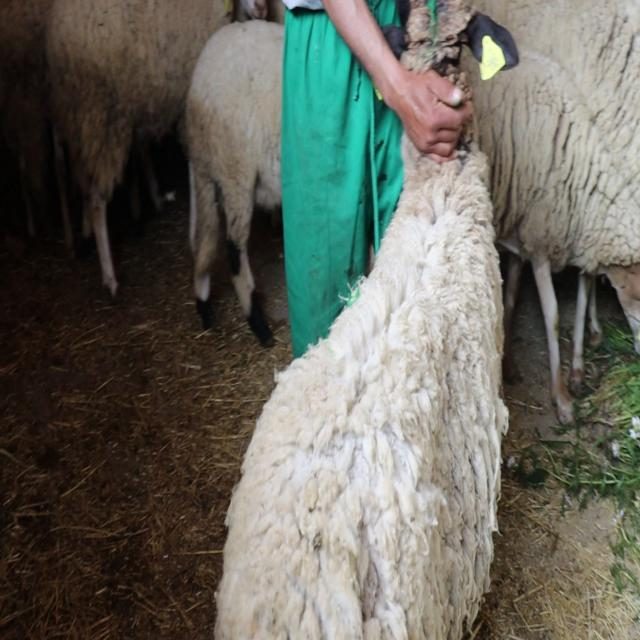Score_2: (215, 0, 519, 639)
